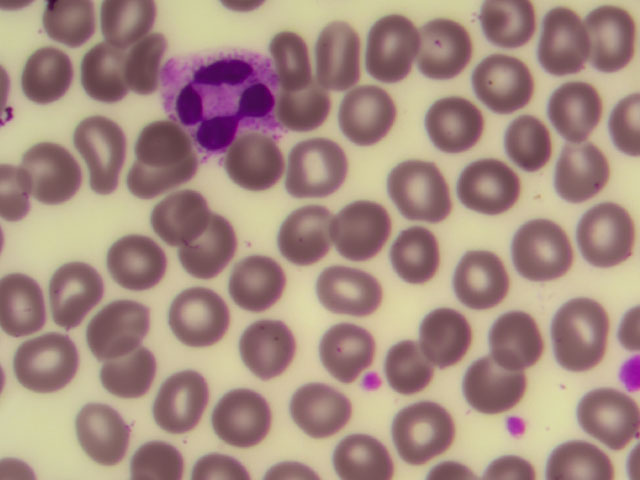Platelets: (614, 350, 640, 393), (505, 415, 524, 437), (365, 373, 382, 391)
RBC: (134, 422, 191, 480), (333, 422, 390, 480), (17, 48, 74, 105), (78, 48, 135, 105), (103, 34, 160, 91), (73, 125, 130, 182), (27, 140, 84, 197), (105, 237, 162, 294), (151, 186, 208, 243), (119, 151, 176, 208), (131, 108, 188, 165), (227, 135, 284, 192), (286, 137, 343, 194), (274, 83, 331, 140), (258, 28, 315, 85), (303, 24, 360, 81), (362, 18, 419, 75), (420, 18, 477, 75), (341, 87, 398, 144), (326, 203, 383, 260), (280, 211, 337, 268), (228, 256, 285, 313), (185, 218, 242, 275), (49, 260, 106, 317), (19, 332, 76, 389), (91, 297, 148, 354), (97, 340, 154, 397), (166, 293, 223, 350), (248, 316, 305, 373), (215, 391, 272, 448), (154, 372, 211, 429), (78, 406, 135, 463), (293, 386, 350, 443), (386, 407, 443, 464), (381, 345, 438, 402), (305, 322, 362, 379), (325, 265, 382, 322), (386, 227, 443, 284), (385, 166, 442, 223), (425, 100, 482, 157), (472, 54, 529, 111), (484, 1, 541, 58), (535, 10, 592, 67), (578, 10, 635, 67), (554, 81, 611, 138), (493, 115, 550, 172), (457, 160, 514, 217), (557, 144, 614, 201), (579, 205, 636, 262), (513, 225, 570, 282), (449, 252, 506, 309), (418, 310, 475, 367), (464, 352, 521, 409), (490, 306, 547, 363), (548, 303, 605, 360), (582, 390, 639, 447), (99, 1, 156, 57), (42, 1, 99, 57), (1, 278, 57, 335), (551, 441, 609, 480), (487, 446, 536, 480)
WBC: (157, 50, 284, 168)
